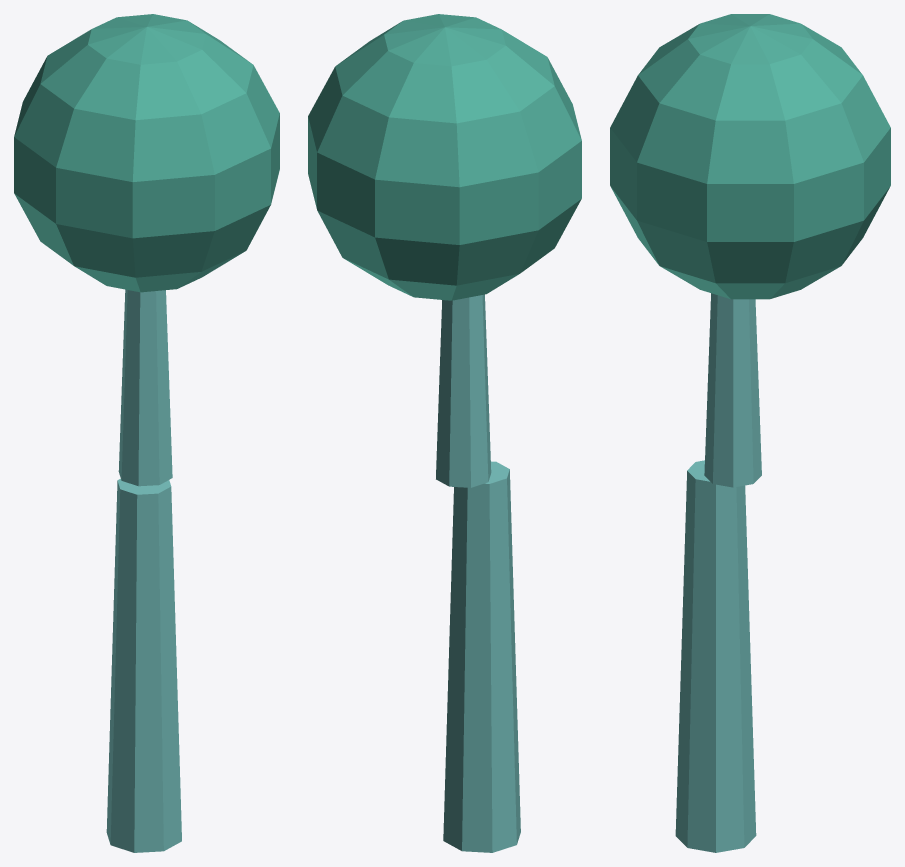
Rendered from fol_glowplant_a.glb.
3 views of the same model, side by side, from view 1: azimuth 30°, elevation 25°; view 2: azimuth 150°, elevation 25°; view 3: azimuth 270°, elevation 25° (orthographic). The views are drawn at different scales.
Visible parts, largest first — view 1: fol_glowplant_a_bulb, fol_glowplant_a_stem_lo, fol_glowplant_a_stem_hi; view 2: fol_glowplant_a_bulb, fol_glowplant_a_stem_lo, fol_glowplant_a_stem_hi; view 3: fol_glowplant_a_bulb, fol_glowplant_a_stem_lo, fol_glowplant_a_stem_hi.
Part boxes in pixels (box(x1,y1,x2,y2)): fol_glowplant_a_bulb: box(14, 14, 279, 292); fol_glowplant_a_stem_lo: box(106, 478, 181, 852); fol_glowplant_a_stem_hi: box(118, 289, 172, 486); fol_glowplant_a_bulb: box(308, 14, 581, 300); fol_glowplant_a_stem_lo: box(443, 461, 520, 852); fol_glowplant_a_stem_hi: box(436, 294, 491, 487); fol_glowplant_a_bulb: box(610, 14, 890, 299); fol_glowplant_a_stem_lo: box(675, 460, 756, 852); fol_glowplant_a_stem_hi: box(704, 293, 761, 487).
Bounding box in the file's own units: 0.4636 × 1.57 × 0.4875.
